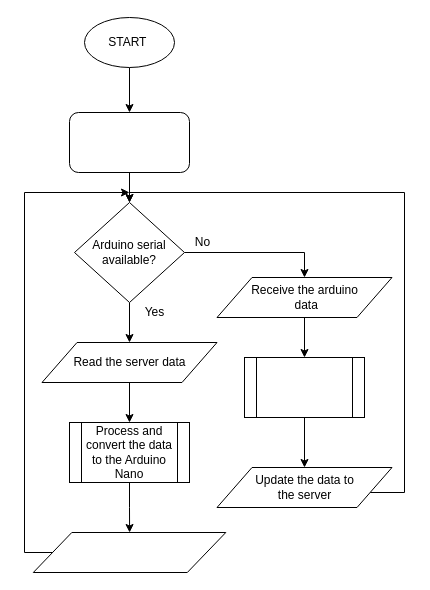
Image size: 430x590. Some labels were removed from this diagram. The centre of each missing label's shape, as x and y in pixels:
"Process and prepare the data for updating the server" belongs at [304,387].
"Sending the data to arduino Nano" belongs at [129,552].
"waiting for Internet connectivity" belongs at [129,142].
